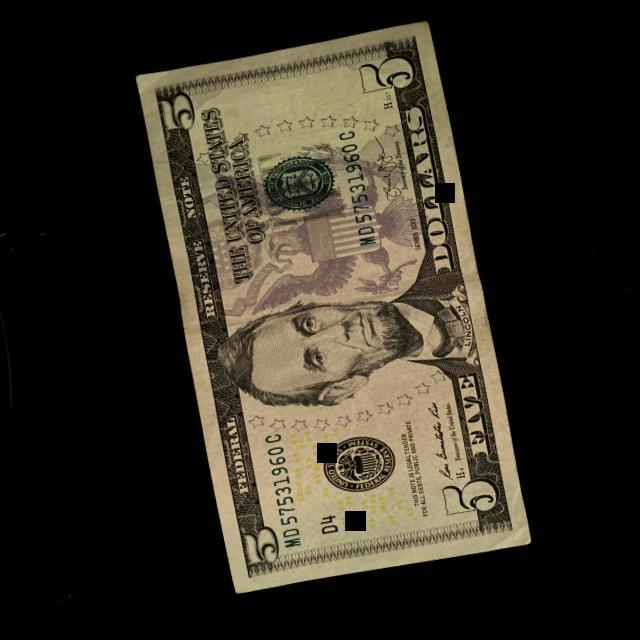five: (133, 16, 536, 600)
